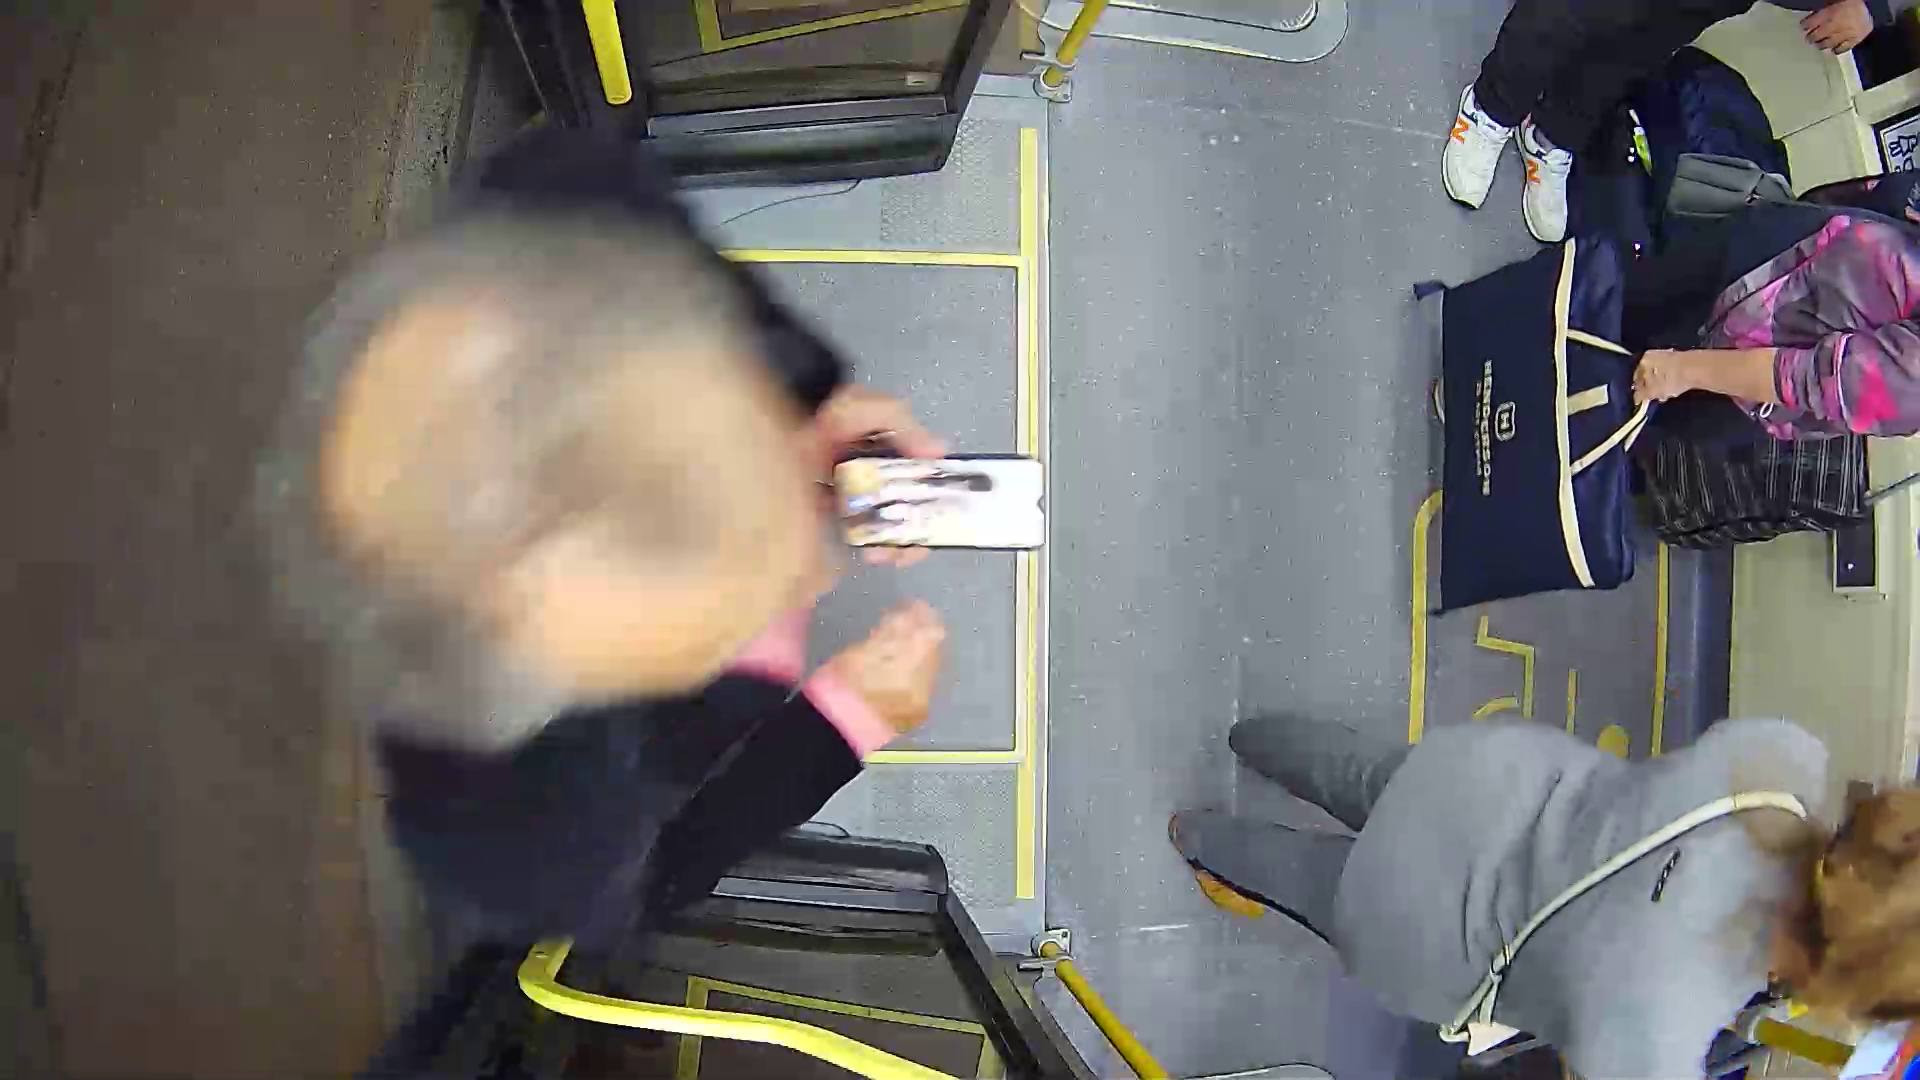person: (246, 188, 932, 936)
